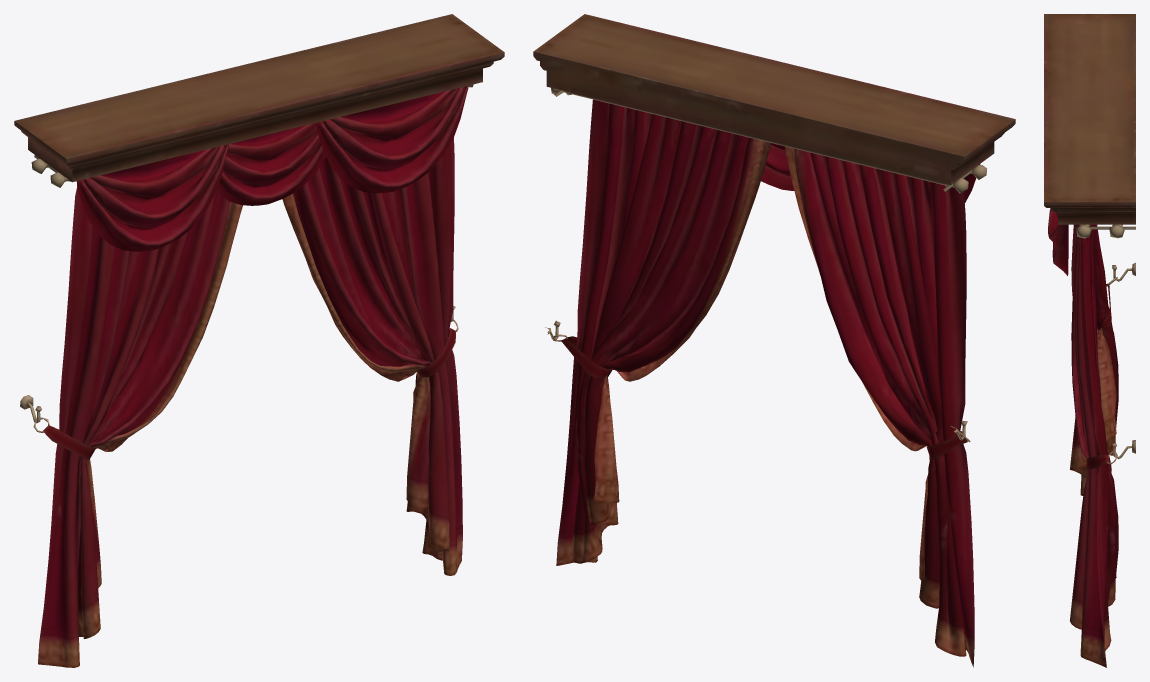
The model's file is SM_CurtainSet02_0b8591.glb.
3 views of the same model, side by side, from view 1: azimuth 30°, elevation 25°; view 2: azimuth 150°, elevation 25°; view 3: azimuth 270°, elevation 25° (orthographic). The views are drawn at different scales.
Size of the model in its own units: 2.56 by 2.98 by 0.5292.
1 material, 1 textured.
